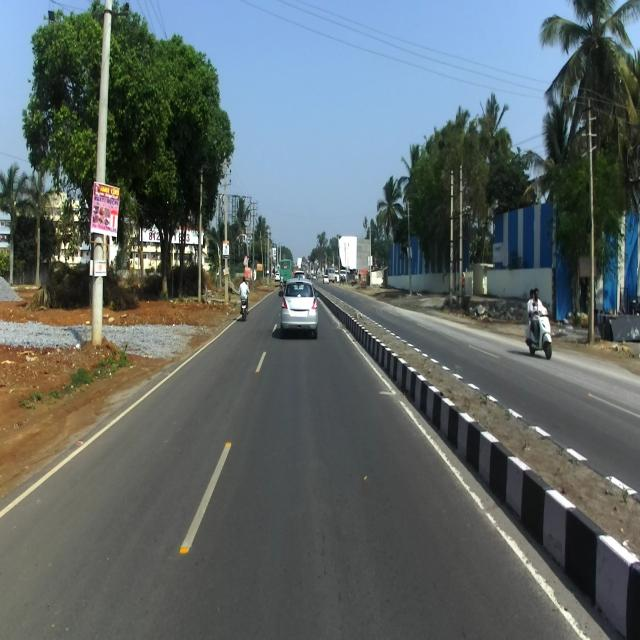car: (278, 276, 318, 338)
motorcycle: (240, 286, 249, 321)
scooter: (525, 300, 553, 360)
